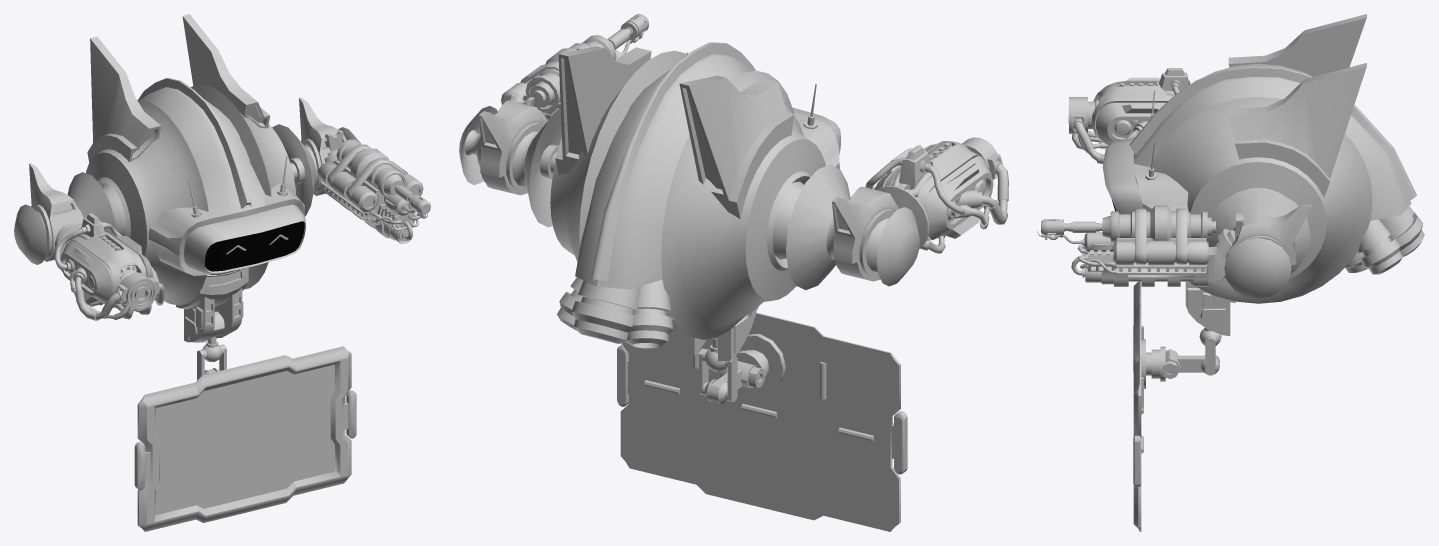
Rendered from Companion pivot test.FBX.
3 renders of one model, left to right at view 1: azimuth 30°, elevation 25°; view 2: azimuth 150°, elevation 25°; view 3: azimuth 270°, elevation 25°, orthographic. The views are drawn at different scales.
Parts seen in each view (by area): view 1: robot; view 2: robot; view 3: robot.
Part boxes in pixels (x1,y1,x2,y2): robot: (14, 14, 430, 531); robot: (459, 14, 1008, 531); robot: (1037, 14, 1424, 531).
Size of the model in its own units: 60.99 by 69.41 by 54.85.
